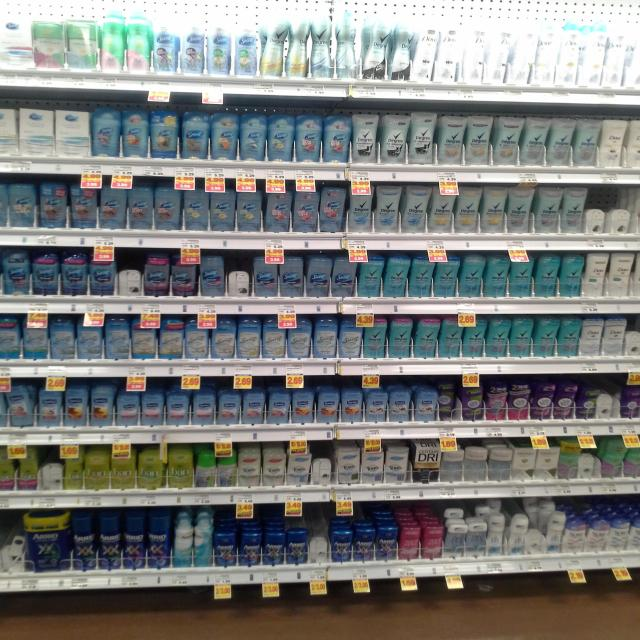empty: (586, 187, 629, 233), (4, 518, 24, 573), (39, 447, 64, 491), (228, 255, 251, 297), (117, 255, 141, 295), (312, 445, 334, 484), (580, 450, 603, 478), (597, 388, 616, 419), (627, 318, 640, 354)
